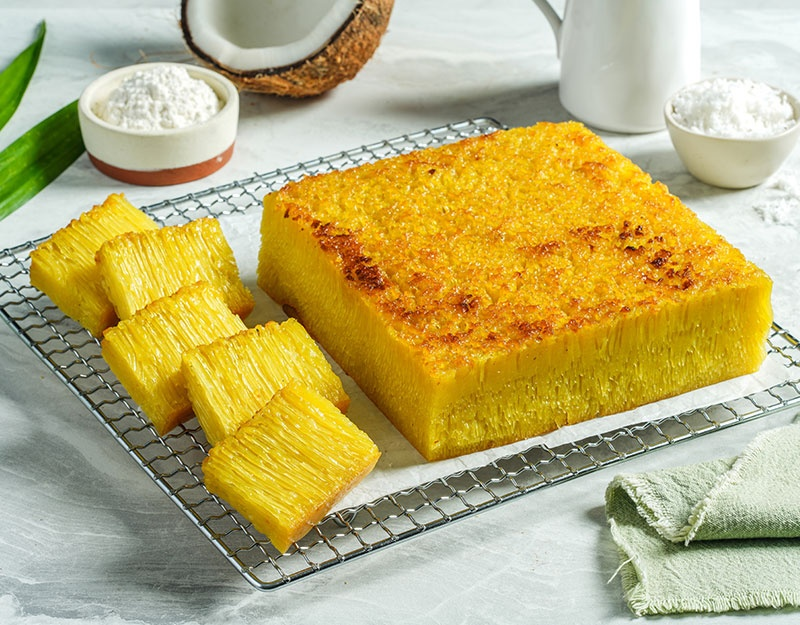bika_ambon: (426, 309, 757, 452), (181, 383, 375, 550), (170, 328, 372, 451)
